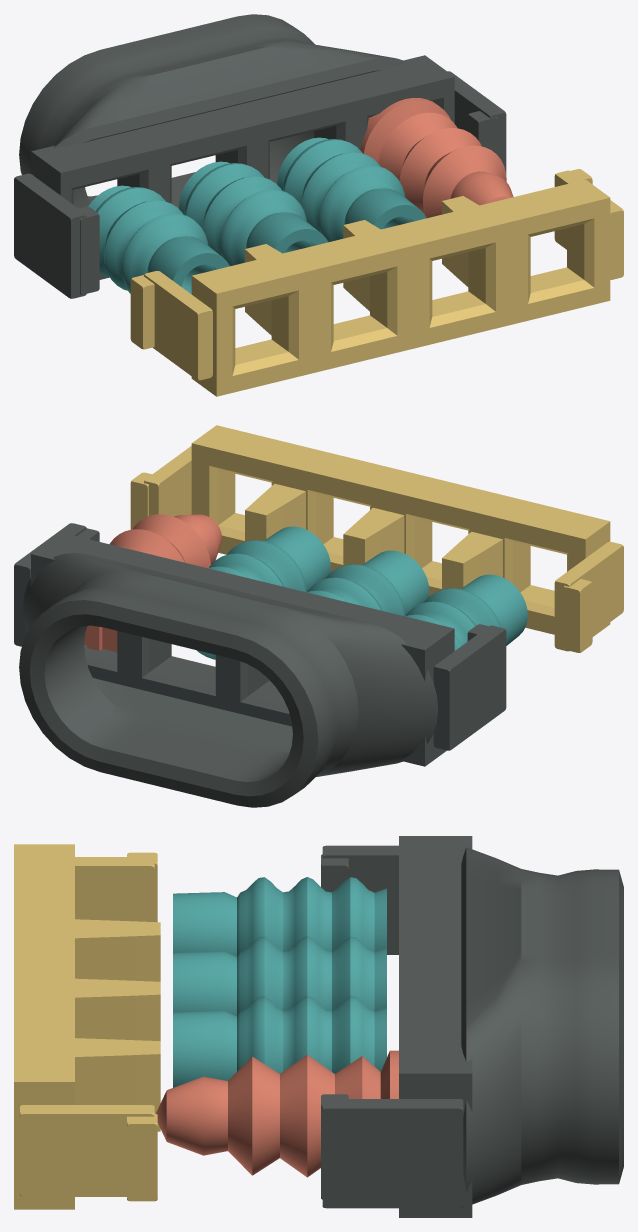
Rendered from seals-accessories.glb.
The picture shows the model from 3 angles, top to bottom: view 1: azimuth 30°, elevation 25°; view 2: azimuth 150°, elevation 25°; view 3: azimuth 270°, elevation 25°; orthographic projection. The views are drawn at different scales.
Visible parts, largest first — view 1: Strain_Relief_Cap, Secondary_Wedge_Lock, Triple_Lip_SWS, Cavity_Blind_Plug; view 2: Strain_Relief_Cap, Secondary_Wedge_Lock, Triple_Lip_SWS, Cavity_Blind_Plug; view 3: Strain_Relief_Cap, Secondary_Wedge_Lock, Triple_Lip_SWS, Cavity_Blind_Plug.
Part boxes in pixels (<box>): Strain_Relief_Cap: <box>14,14,506,298</box>; Secondary_Wedge_Lock: <box>130,169,623,396</box>; Triple_Lip_SWS: <box>88,137,426,293</box>; Cavity_Blind_Plug: <box>360,98,513,218</box>; Strain_Relief_Cap: <box>14,523,506,807</box>; Secondary_Wedge_Lock: <box>130,425,623,652</box>; Triple_Lip_SWS: <box>196,526,527,659</box>; Cavity_Blind_Plug: <box>84,514,221,652</box>; Strain_Relief_Cap: <box>321,836,623,1217</box>; Secondary_Wedge_Lock: <box>14,844,160,1209</box>; Triple_Lip_SWS: <box>173,877,386,1087</box>; Cavity_Blind_Plug: <box>156,1050,398,1177</box>.
Size of the model in its own units: 2.4 by 0.8743 by 2.28.
